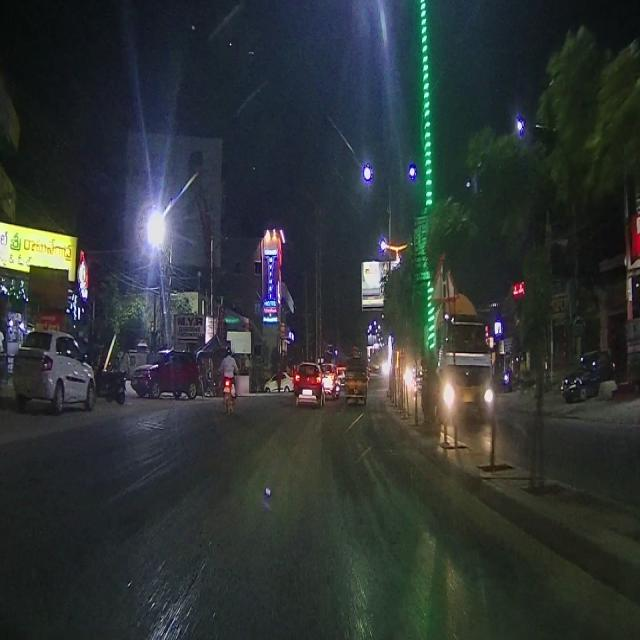gap-in-median: (433, 250, 455, 299)
